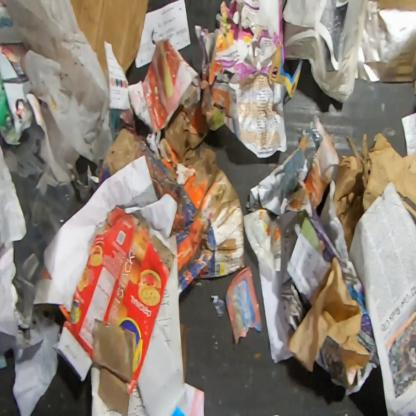cardboard: (51, 205, 176, 416), (99, 126, 247, 300), (70, 0, 151, 81)
soft_plastic: (0, 0, 118, 168)
